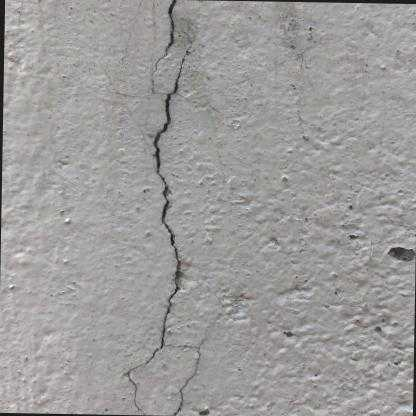crack: (122, 32, 202, 415), (148, 0, 176, 93)
